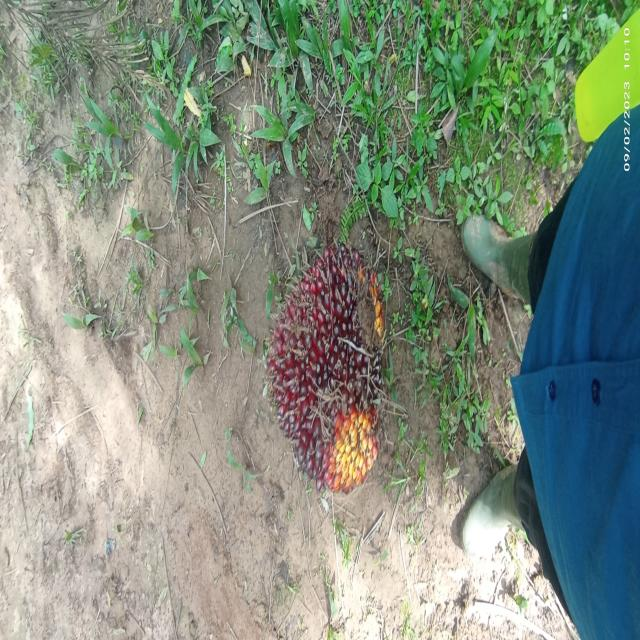fraksi 1: (220, 176, 416, 570)
